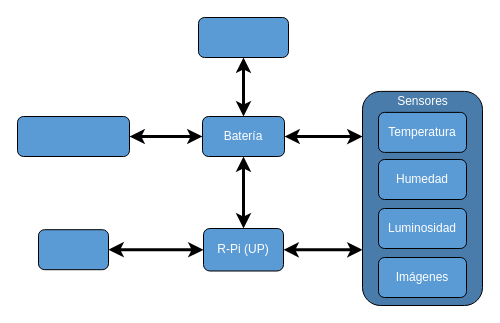
This 500x323 diagram has some shape labels left out. The shapes that lost their labels are listed below. From the top down, each one's centre as x and y in pixels, then its label:
At (243,37): "Panel Solar".
At (73,136): "Cargador de la Mochila".
At (73,249): "SD".
